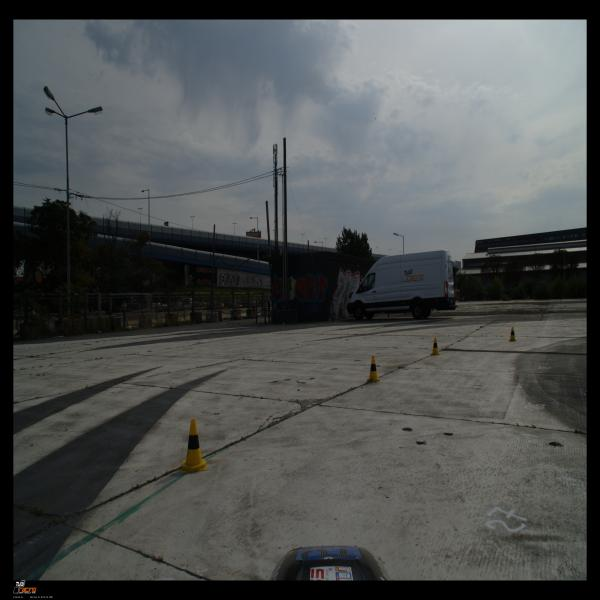yellow_cone: (181, 419, 207, 473), (366, 356, 381, 382), (430, 338, 441, 355), (508, 327, 517, 341)
